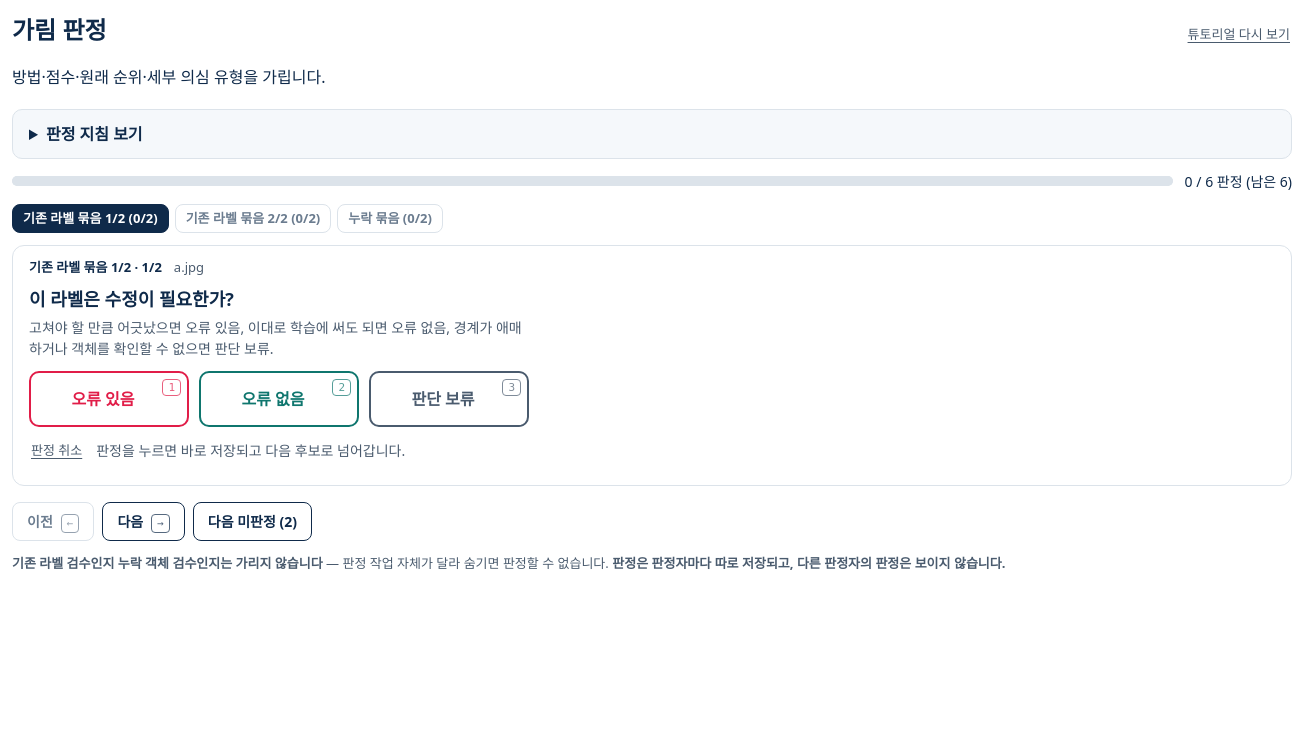
Scenario: 묶음 경계 › 자동 이동은 묶음 끝에서 멈추고 묶음 완료 화면을 띄운다
The width and height of the screenshot is (1304, 732).
expect the text "a.jpg" is shown: met, box left=174, top=258, right=204, bottom=278
Click the button "오류 있음" at (109, 398), box left=29, top=370, right=189, bottom=426
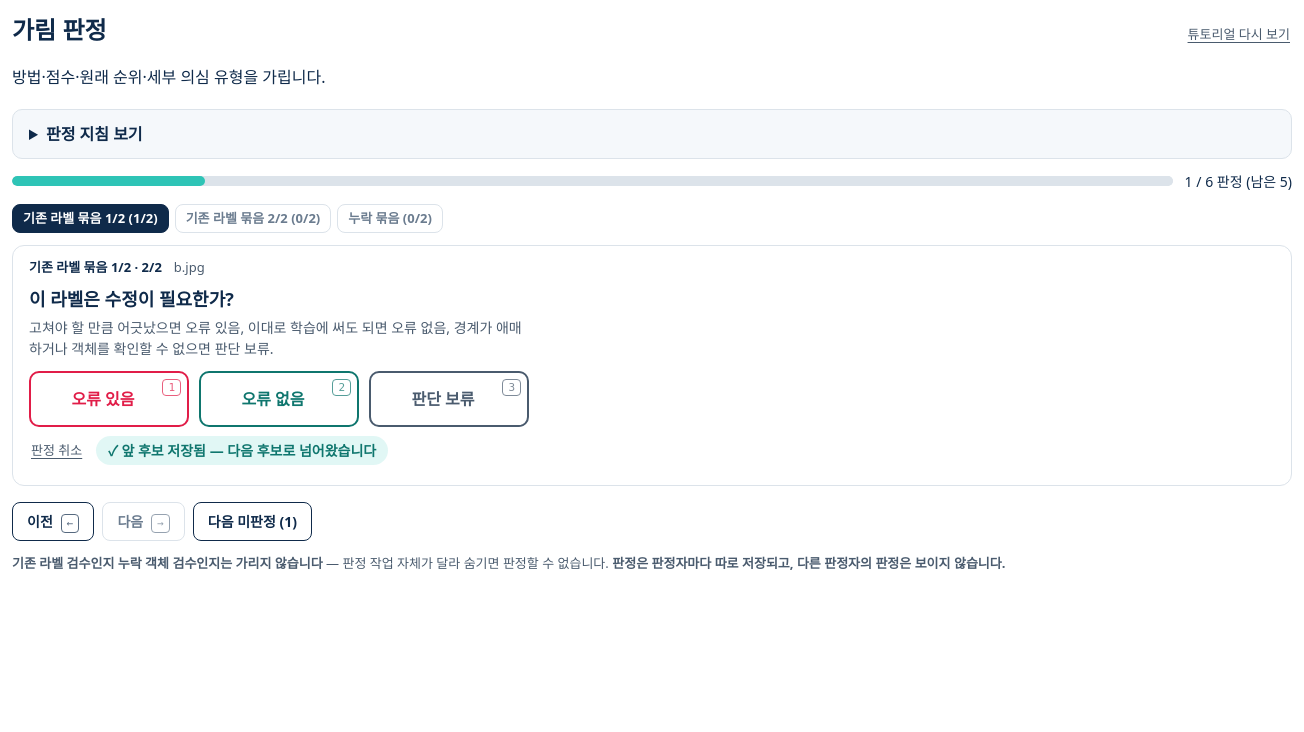
expect the text "b.jpg" is shown: met, box left=174, top=258, right=205, bottom=278
Click the button "오류 없음" at (279, 398), box left=199, top=370, right=359, bottom=426
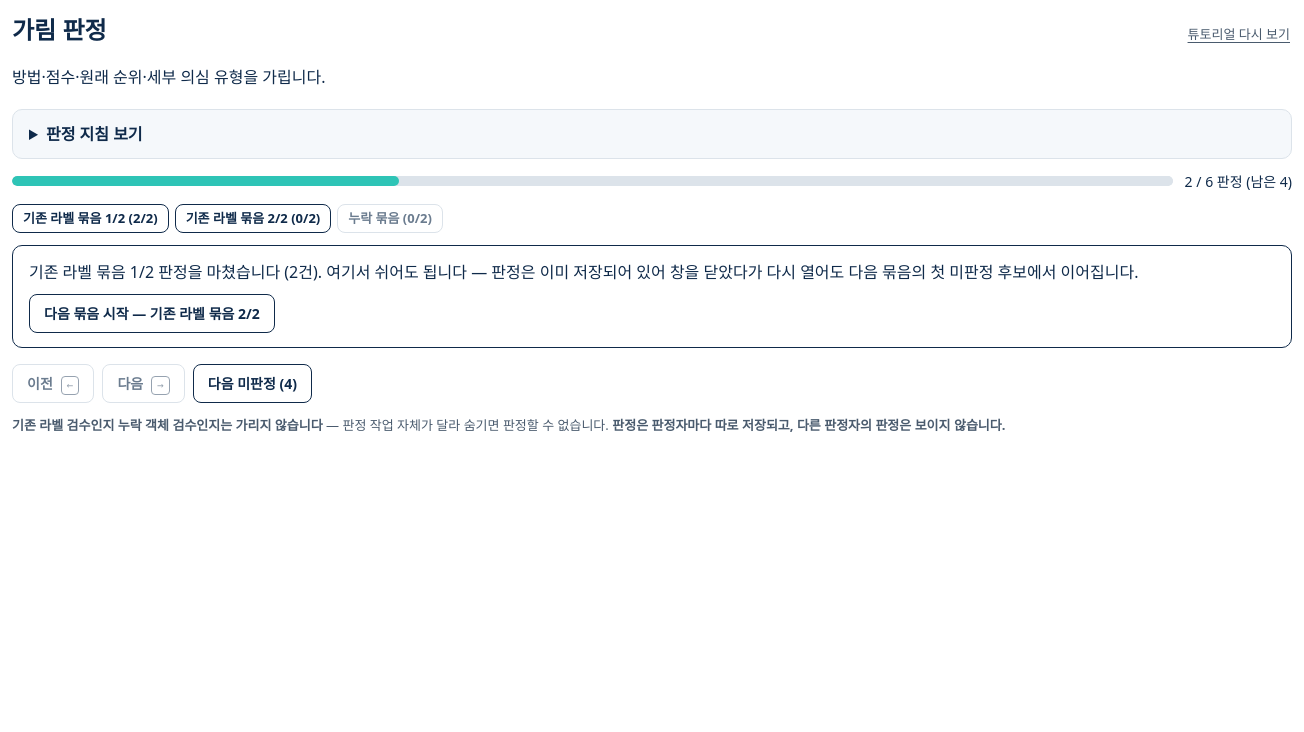
expect the text "기존 라벨 묶음 1/2 판정을 마쳤습니다 (2건). 여기서 쉬어도 됩니다" is shown: met, box left=29, top=261, right=1138, bottom=283
expect the text "기존 라벨 묶음 1/2 · 2/2" is gone: met
